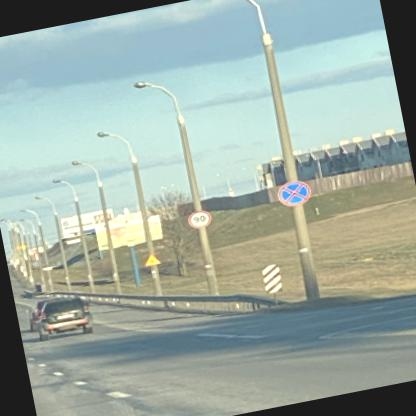speedlimit: (184, 208, 209, 228)
